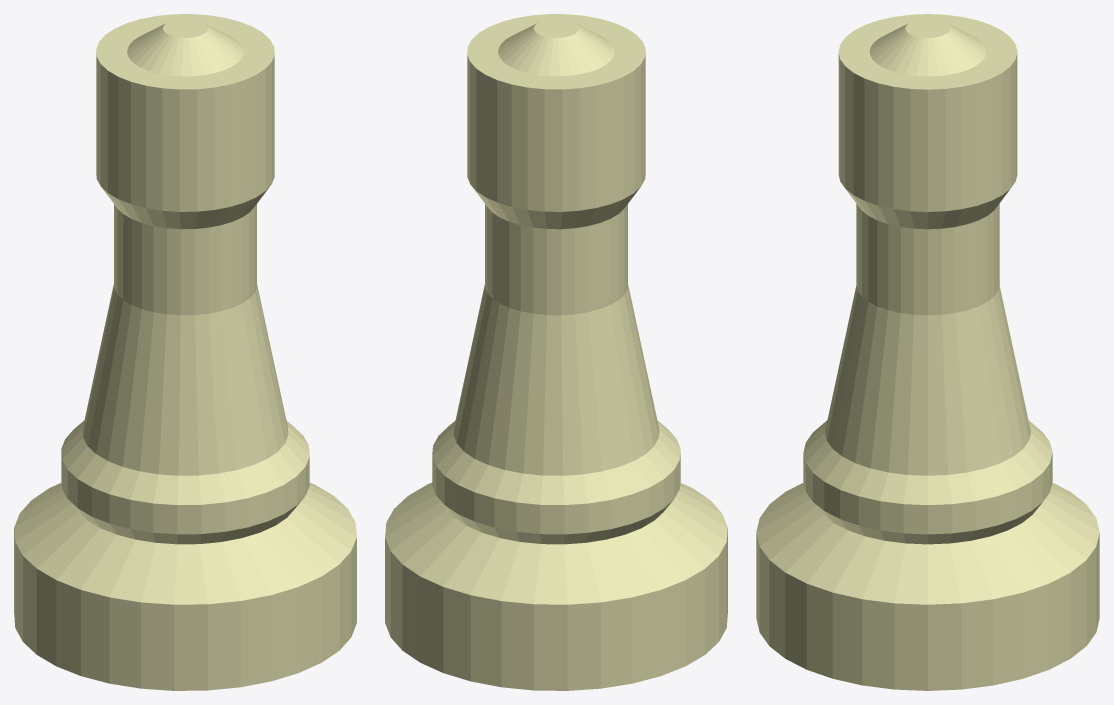
3 views of the same model, side by side, from view 1: azimuth 30°, elevation 25°; view 2: azimuth 150°, elevation 25°; view 3: azimuth 270°, elevation 25° (orthographic).
Parts seen in each view (by area): view 1: Cylinder; view 2: Cylinder; view 3: Cylinder.
Boxes of the visible parts, box(x1,y1,x2,y2) form: Cylinder: box(14, 14, 356, 690); Cylinder: box(385, 14, 727, 690); Cylinder: box(756, 14, 1099, 690).
Bounding box in the file's own units: 0.7066 × 1.34 × 0.7066.
